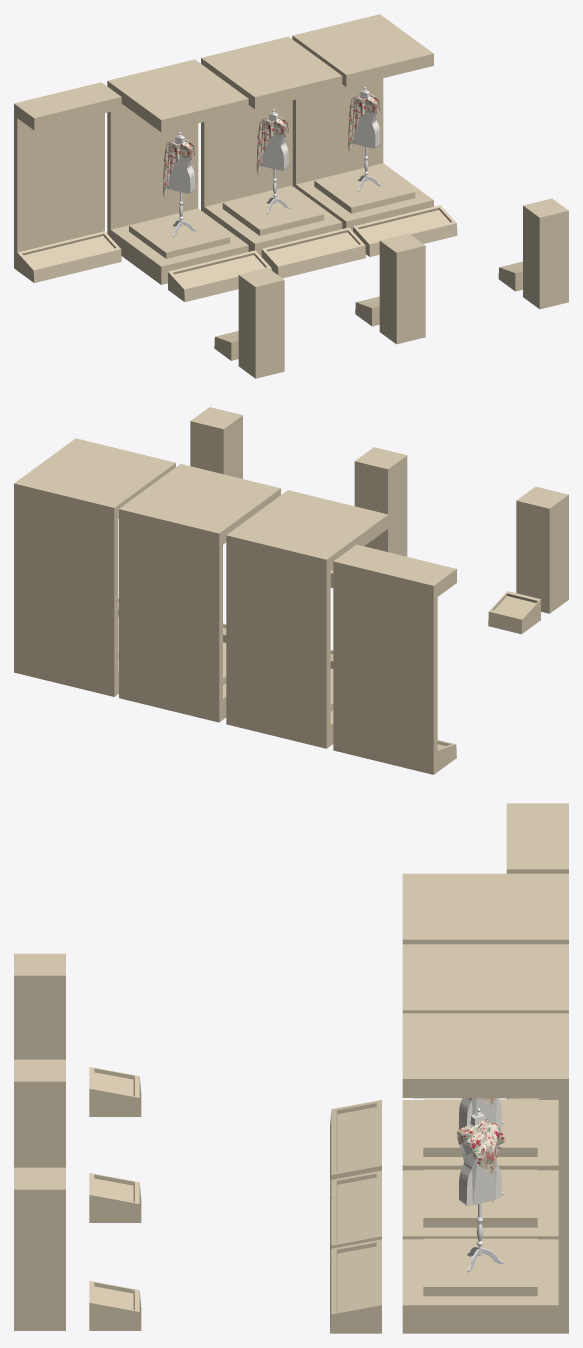
3 renders of one model, top to bottom at view 1: azimuth 30°, elevation 25°; view 2: azimuth 150°, elevation 25°; view 3: azimuth 270°, elevation 25°, orthographic. The views are drawn at different scales.
Parts seen in each view (by area): view 1: fuaye; view 2: fuaye; view 3: fuaye.
Part boxes in pixels (x1,y1,x2,y2): fuaye: (14,14,568,378); fuaye: (14,407,568,774); fuaye: (14,803,568,1333).
Bounding box in the file's own units: 6.43 × 2.7 × 5.34.
5 materials, 1 textured.
